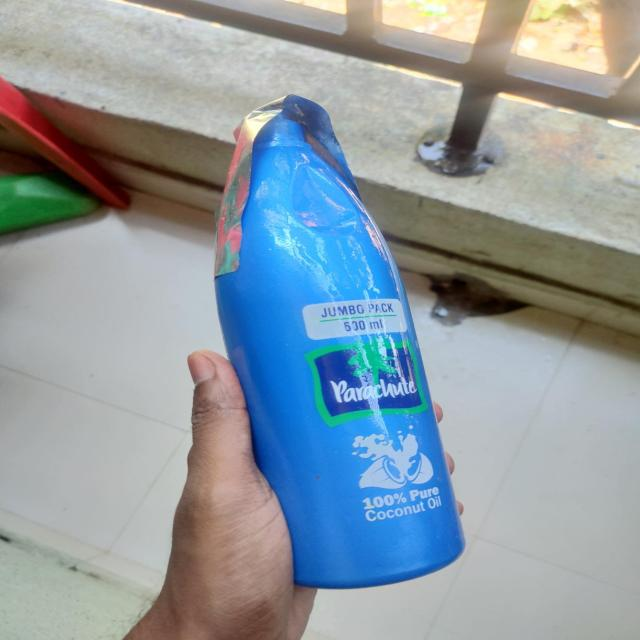parachute_oil: (234, 122, 471, 579)
